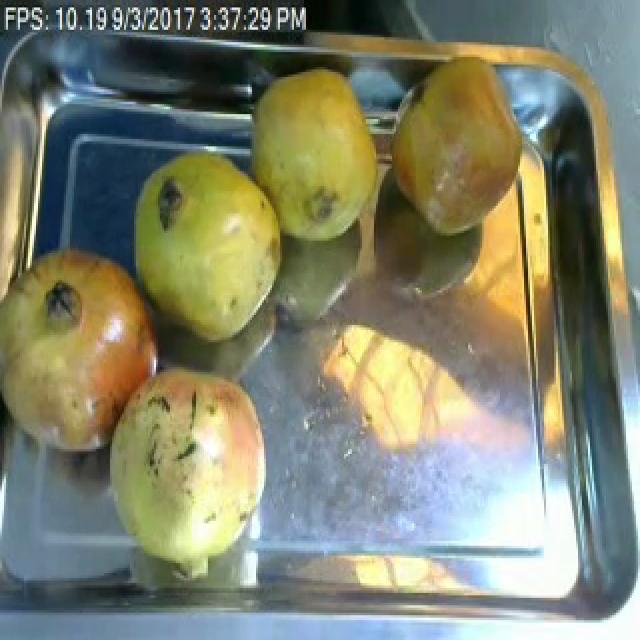fruit: (94, 352, 282, 596), (0, 233, 176, 471), (116, 136, 294, 358), (376, 44, 534, 250), (238, 59, 398, 256)
